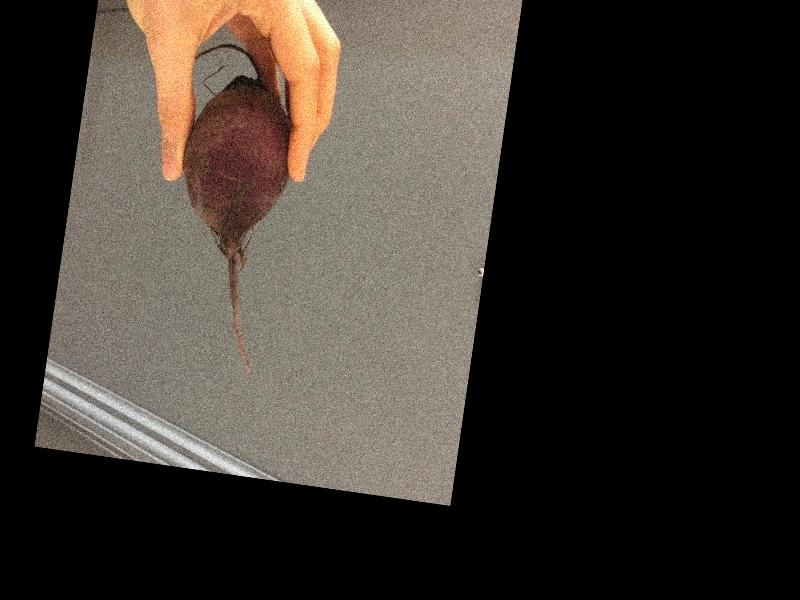Beet: (152, 41, 303, 382)
